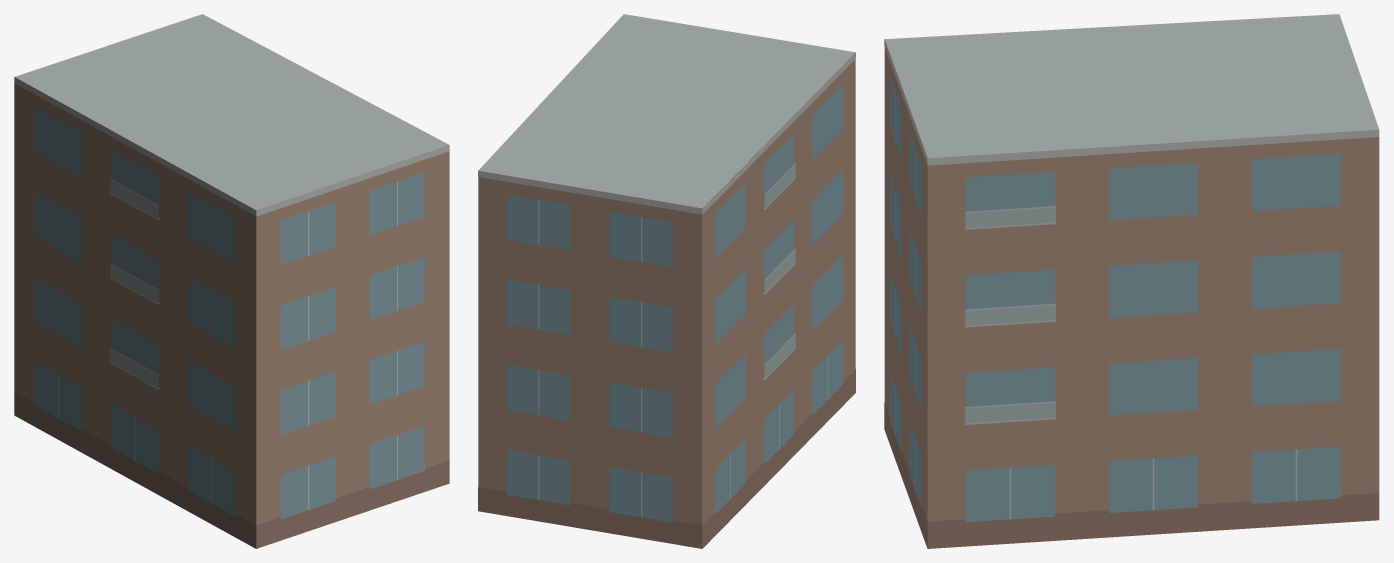
File: survey-upis-33007519.glb
3 views of the same model, side by side, from view 1: azimuth 30°, elevation 25°; view 2: azimuth 150°, elevation 25°; view 3: azimuth 270°, elevation 25° (orthographic). The views are drawn at different scales.
Visible parts, largest first — view 1: survey-upis-33007519.tmp; view 2: survey-upis-33007519.tmp; view 3: survey-upis-33007519.tmp.
Boxes of the visible parts, x1,y1,x2,y2 form: survey-upis-33007519.tmp: (14, 14, 449, 548); survey-upis-33007519.tmp: (478, 14, 855, 548); survey-upis-33007519.tmp: (884, 14, 1379, 548).
Size of the model in its own units: 10.48 by 13.2 by 15.17.
